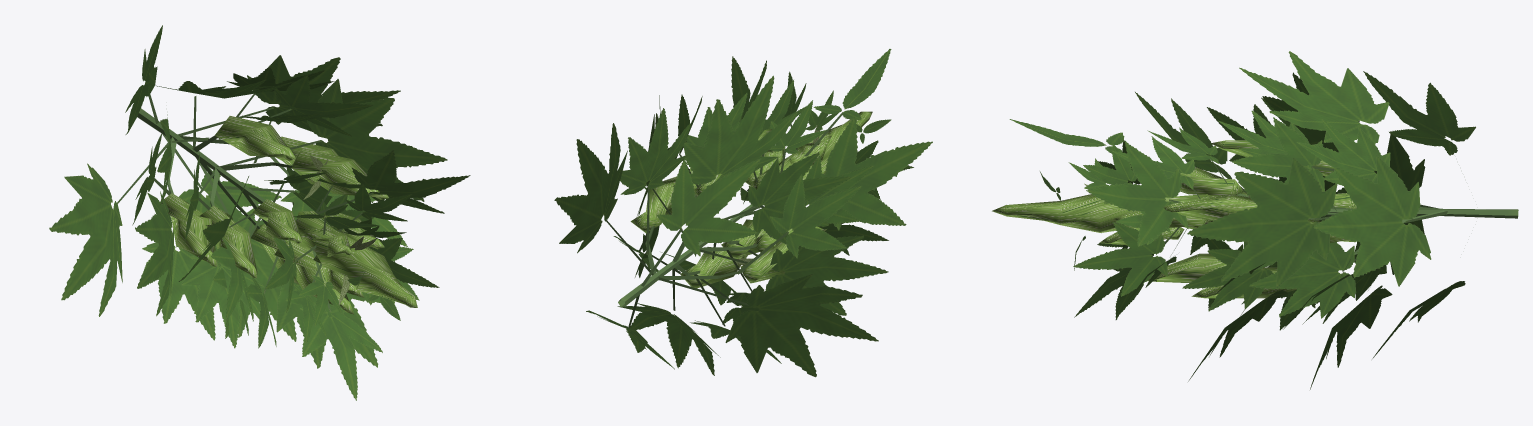
Rendered from p_tree_flowering_c0_cards.obj.
3 renders of one model, left to right at view 1: azimuth 30°, elevation 25°; view 2: azimuth 150°, elevation 25°; view 3: azimuth 270°, elevation 25°, orthographic. The views are drawn at different scales.
Size of the model in its own units: 1.56 by 1.31 by 1.8.
1 material, 1 textured.
